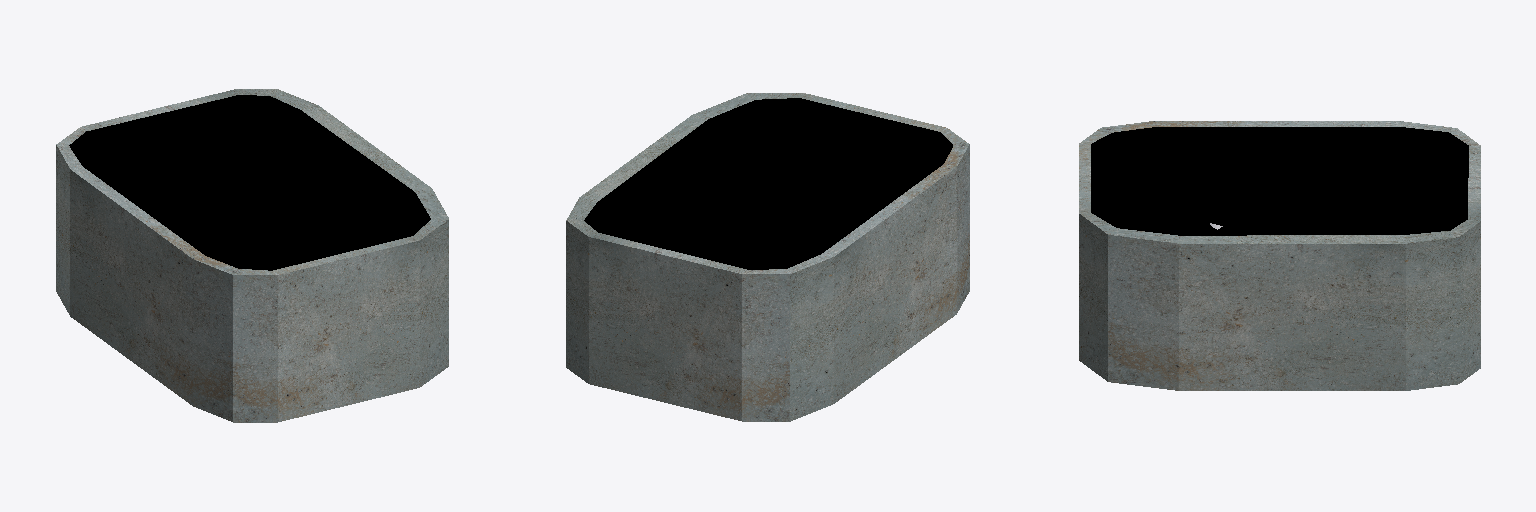
3 renders of one model, left to right at view 1: azimuth 30°, elevation 25°; view 2: azimuth 150°, elevation 25°; view 3: azimuth 270°, elevation 25°, orthographic.
Parts seen in each view (by area): view 1: polySurface9; view 2: polySurface9; view 3: polySurface9, textureEditorIsolateSelectSet polySurface9.
Boxes of the visible parts, box(x1,y1,x2,y2) form: polySurface9: box(56, 89, 448, 422); polySurface9: box(566, 93, 969, 421); polySurface9: box(1079, 121, 1480, 390); textureEditorIsolateSelectSet polySurface9: box(1155, 127, 1468, 234).
Size of the model in its own units: 10.17 by 5.68 by 14.08.
Materials: 6 (2 with a texture image).